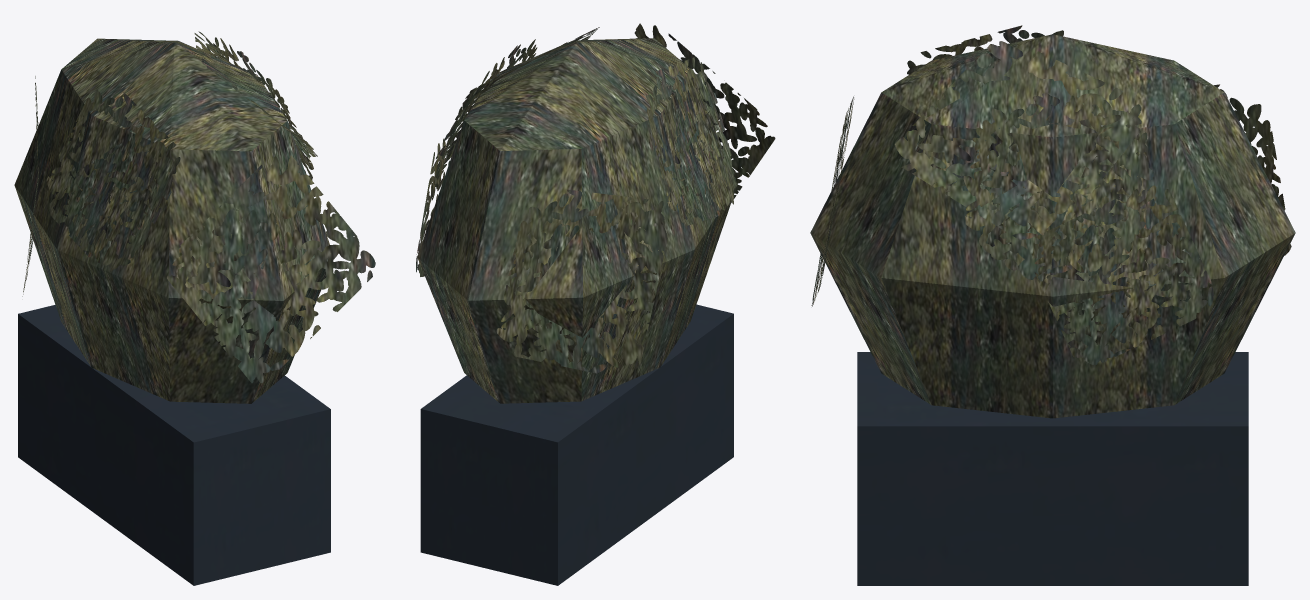
File: SM_Molo_FiorieraAntracite_LOD2.fbx
The picture shows the model from 3 angles, left to right: view 1: azimuth 30°, elevation 25°; view 2: azimuth 150°, elevation 25°; view 3: azimuth 270°, elevation 25°; orthographic projection. The views are drawn at different scales.
Parts seen in each view (by area): view 1: SM_Molo_FiorieraAntracite_LOD2; view 2: SM_Molo_FiorieraAntracite_LOD2; view 3: SM_Molo_FiorieraAntracite_LOD2.
Part boxes in pixels (left/top/right/bottom): SM_Molo_FiorieraAntracite_LOD2: left=14, top=31, right=375, bottom=585; SM_Molo_FiorieraAntracite_LOD2: left=416, top=23, right=775, bottom=585; SM_Molo_FiorieraAntracite_LOD2: left=810, top=25, right=1295, bottom=585.
Size of the model in its own units: 77 by 124 by 145.
Materials: 3 (3 with a texture image).
